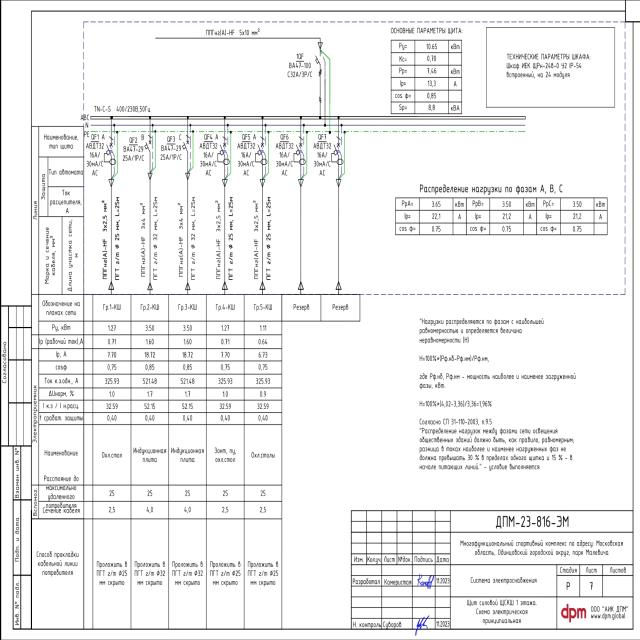-: (84, 142, 104, 178), (312, 143, 332, 177), (236, 142, 256, 176), (274, 143, 294, 177), (198, 142, 218, 176), (285, 62, 312, 80), (120, 145, 144, 163), (159, 145, 181, 163)
QF: (314, 54, 322, 78), (181, 134, 190, 154), (144, 134, 152, 154)
QFD: (330, 136, 344, 166), (292, 136, 306, 166), (254, 136, 268, 166), (216, 136, 230, 166), (102, 136, 116, 166)
